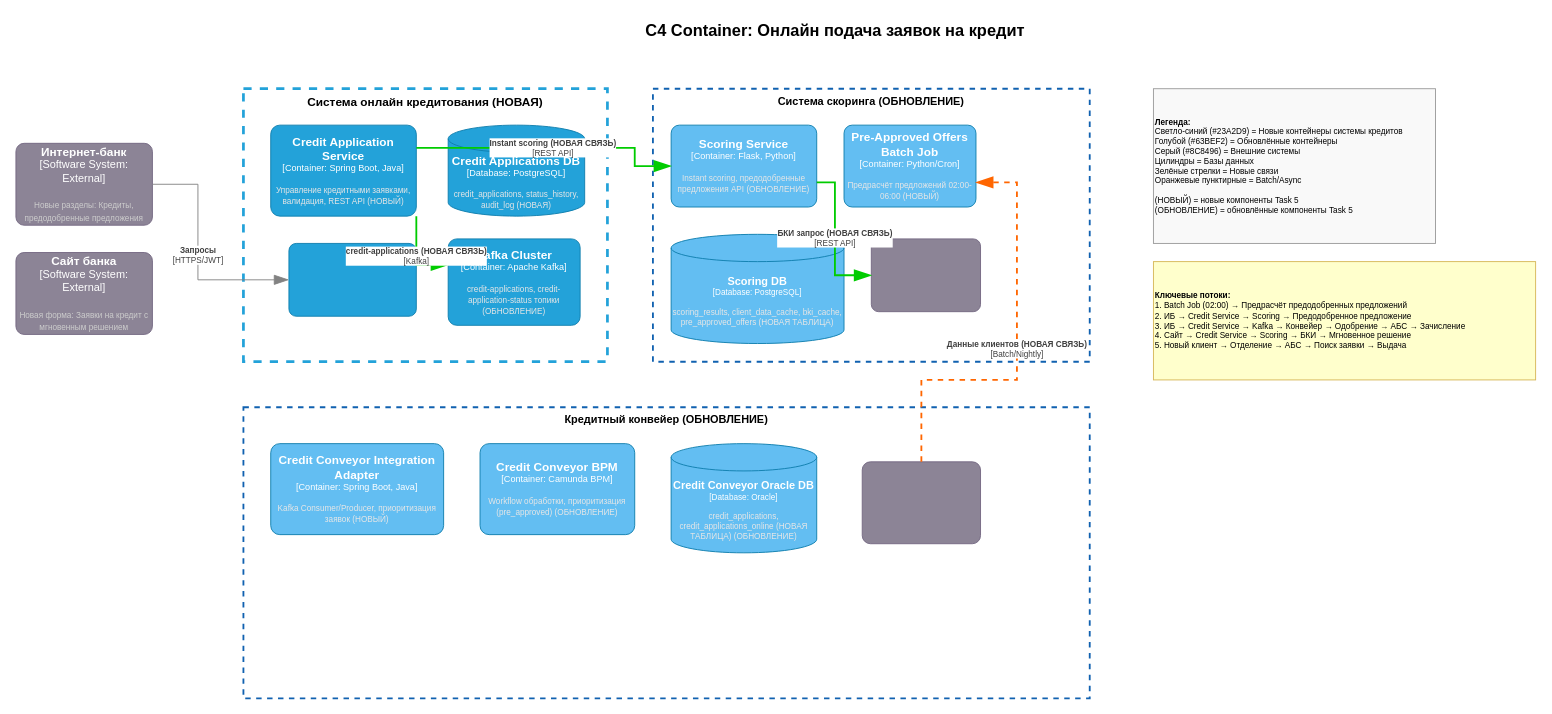
This 1552x714 diagram has some shape labels left out. The centre of each missing label's shape, as x and y in pixels:
"API Gateway [Container: Kong] Маршрутизация, аутентификация" belongs at point 352,279.
"АБС [Software System: External] Зачисление средств, данные клиентов" belongs at point 921,502.
"БКИ [Software System: External] Кредитные истории (External)" belongs at point 925,275.
